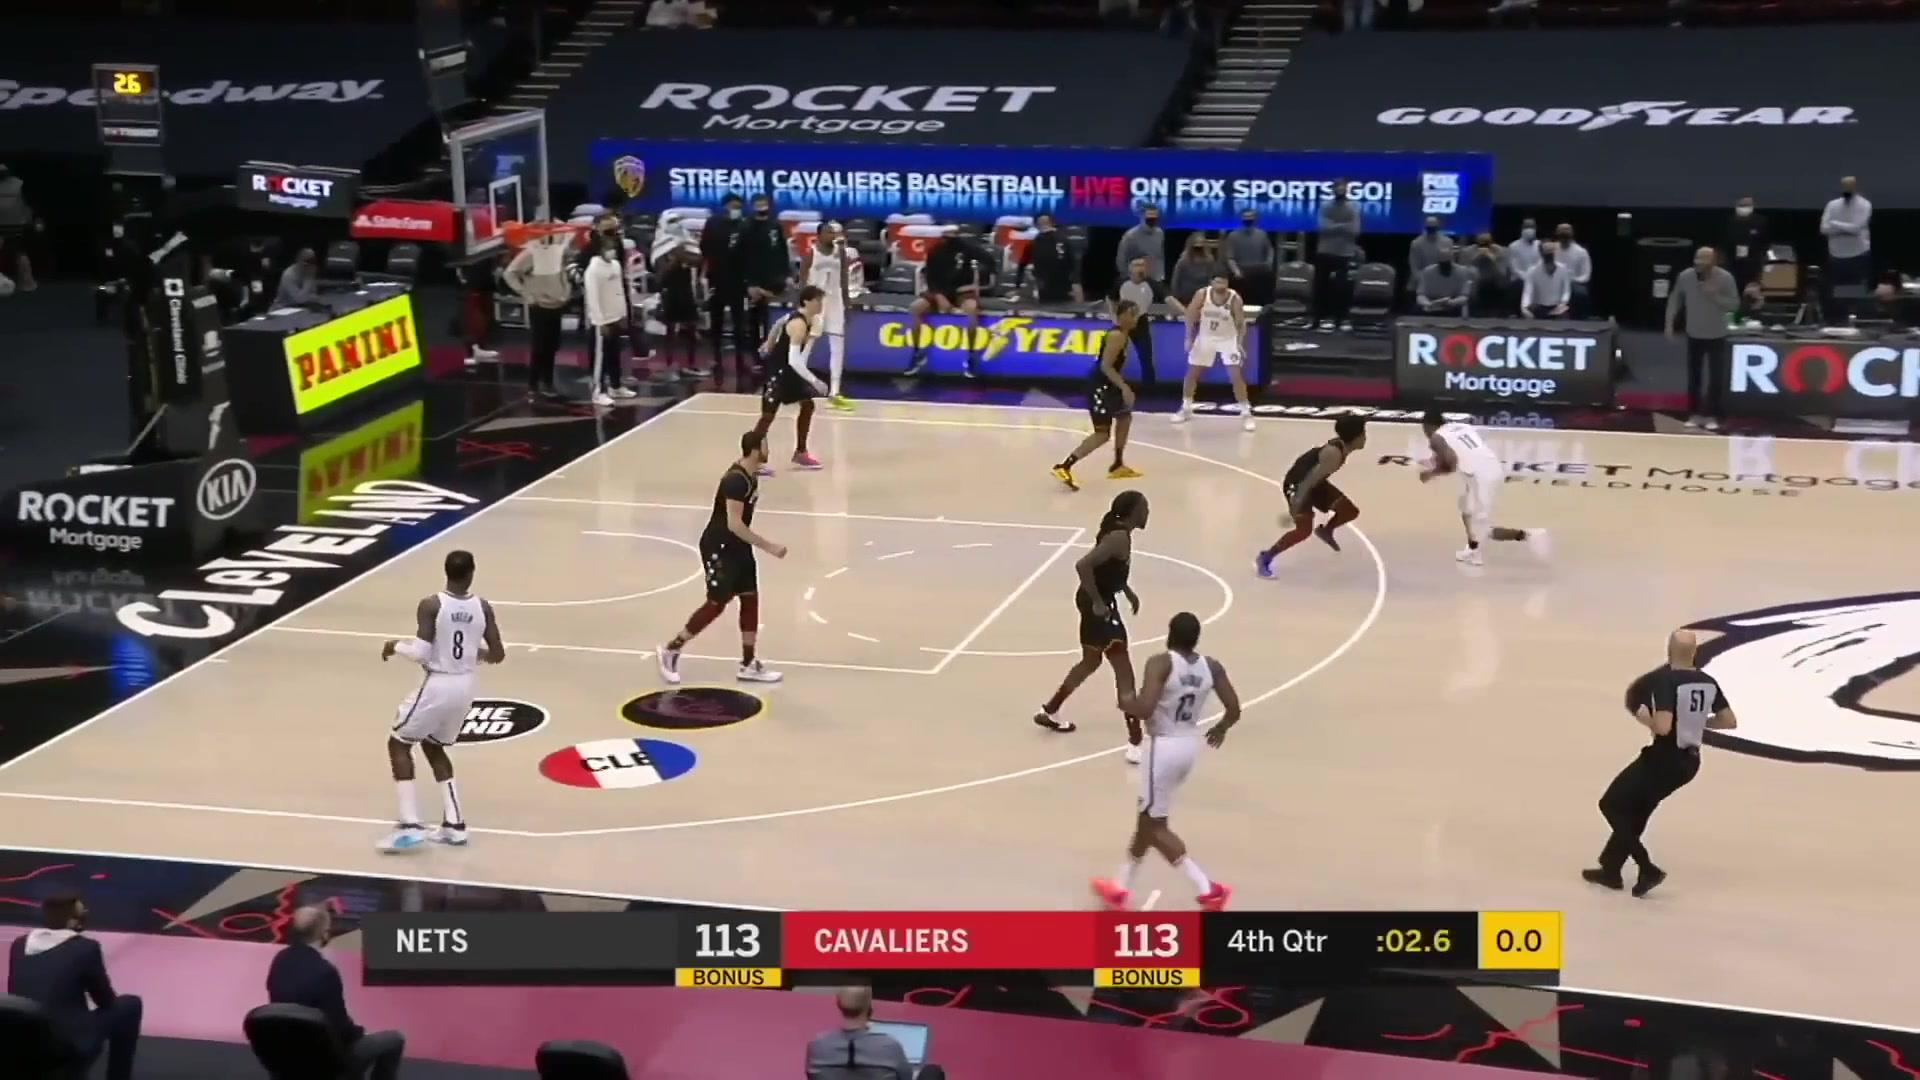no_foul: (1247, 392, 1556, 593)
